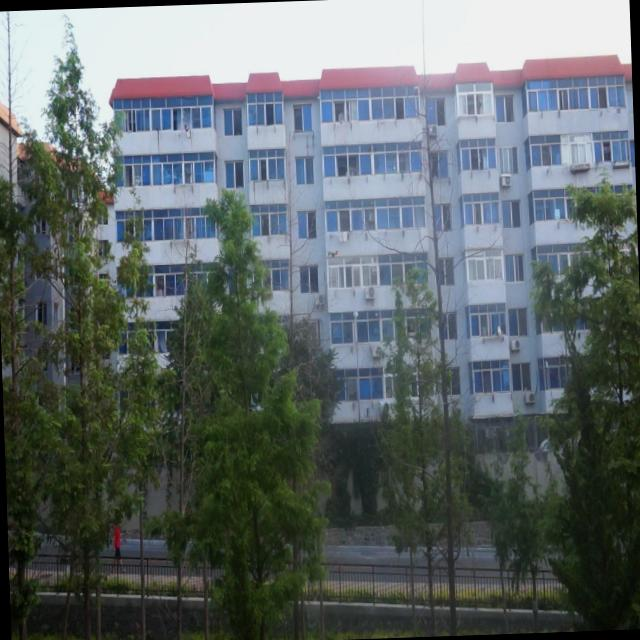drone: (326, 246, 338, 260)
